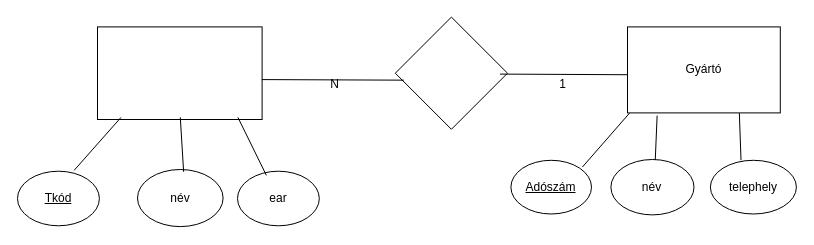
This 814x245 diagram has some shape labels left out. The shapes that lost their labels are listed below. From the top down, each one's box as (x1, y1, x2, y2) in pixels, then its label:
(96, 26, 262, 120): Termék
(394, 16, 508, 129): Készíti
